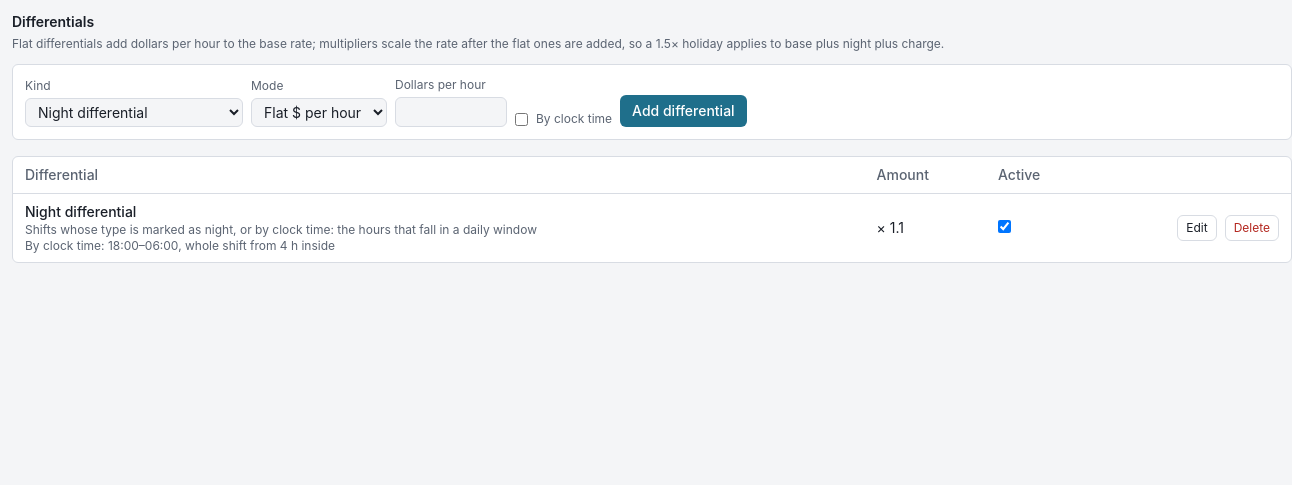
clock-time differentials in Settings › Pay › editing a saved differential › puts the row back when the manager cancels an edit
The width and height of the screenshot is (1292, 485).
Click the button "Edit". click: (1197, 228)
box: [1177,215,1217,241]
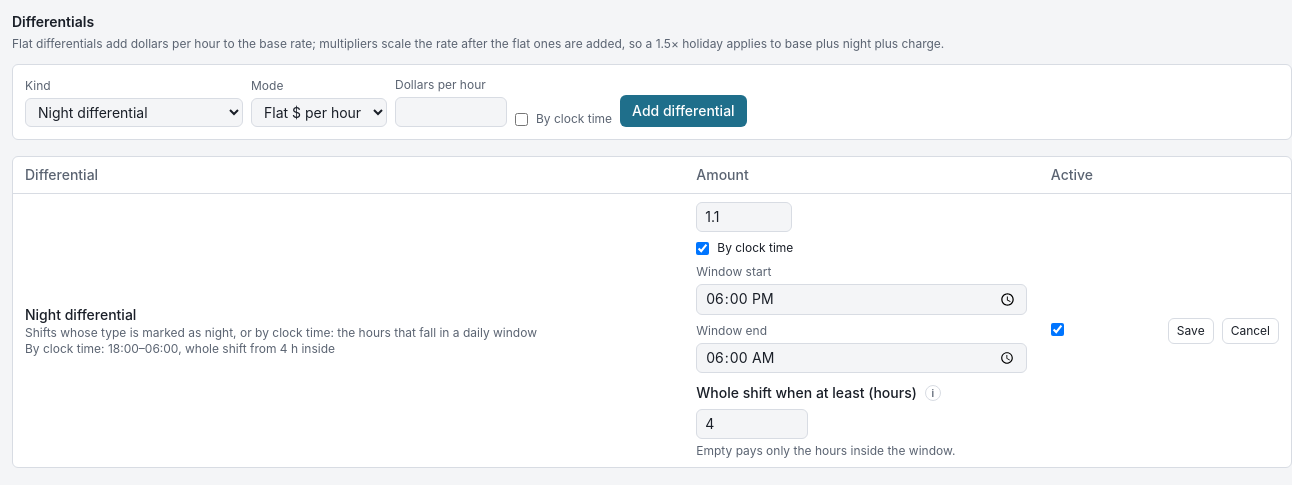
Replace the text in the number field named "Amount" with "1.4". click: (744, 217)
box: [696,202,792,232]
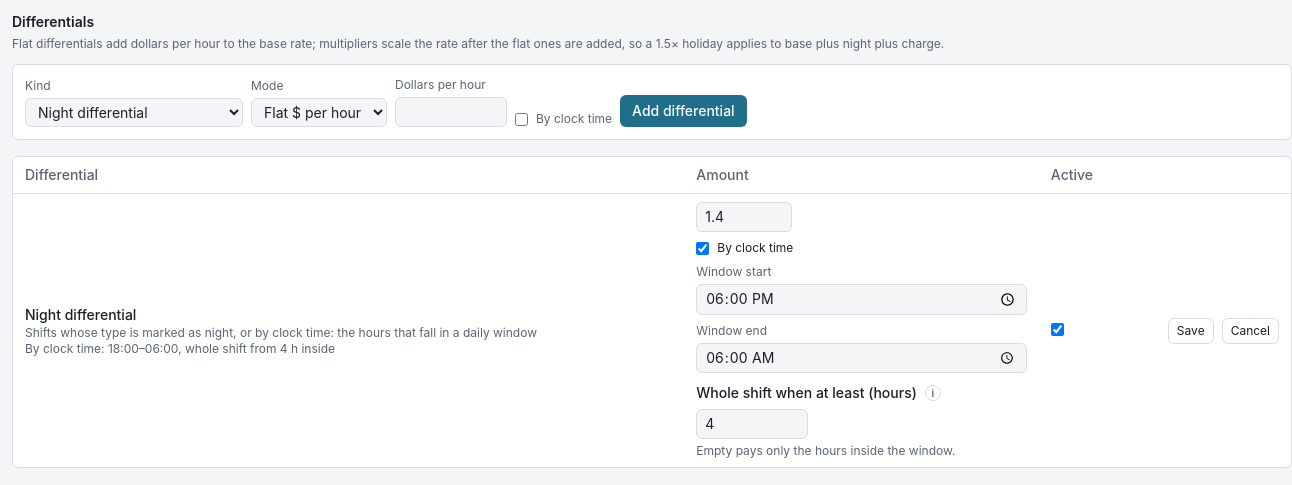
Click the button "Cancel". click: (1250, 331)
box: [1222,318,1279,344]
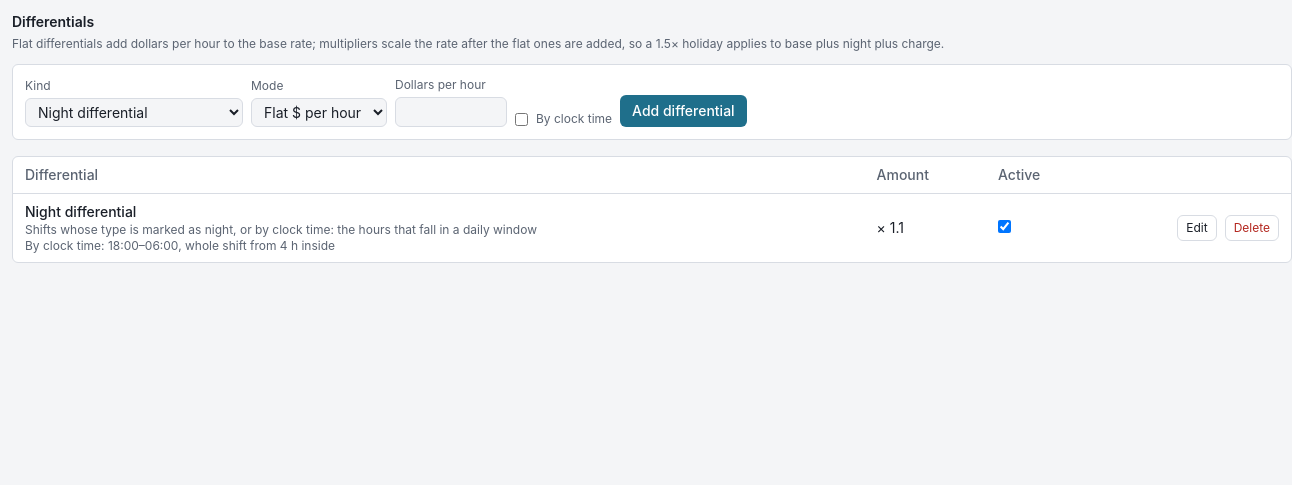
Click the button "Edit". click: (1197, 228)
box: [1177,215,1217,241]
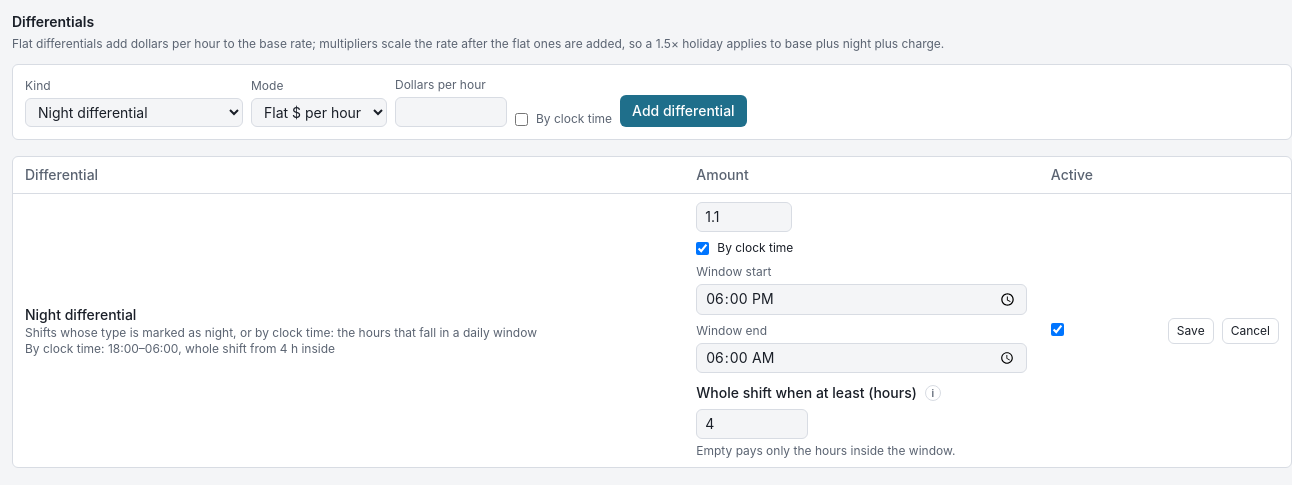
expect the number field named "Amount" holds "1.1": met, box [696,202,792,232]
